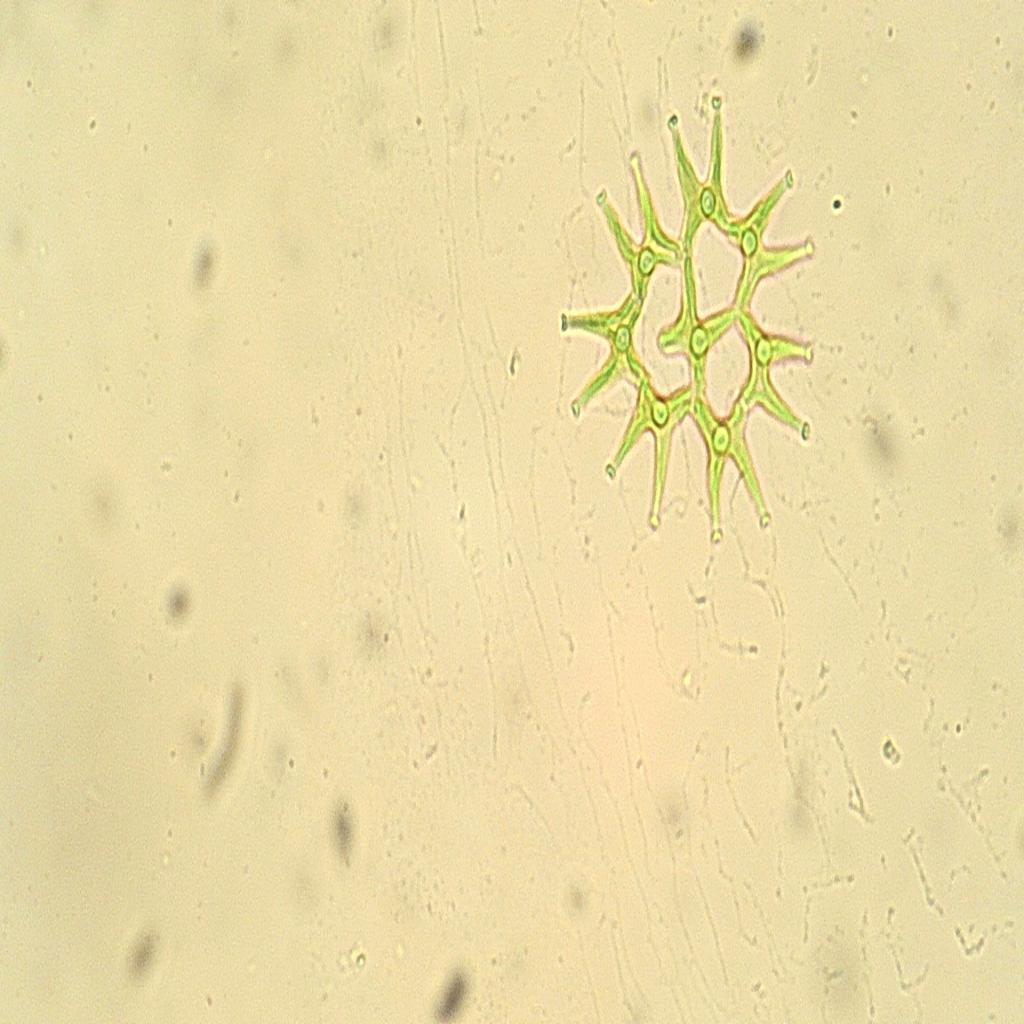Pediastrum_75T: (550, 78, 827, 573)
